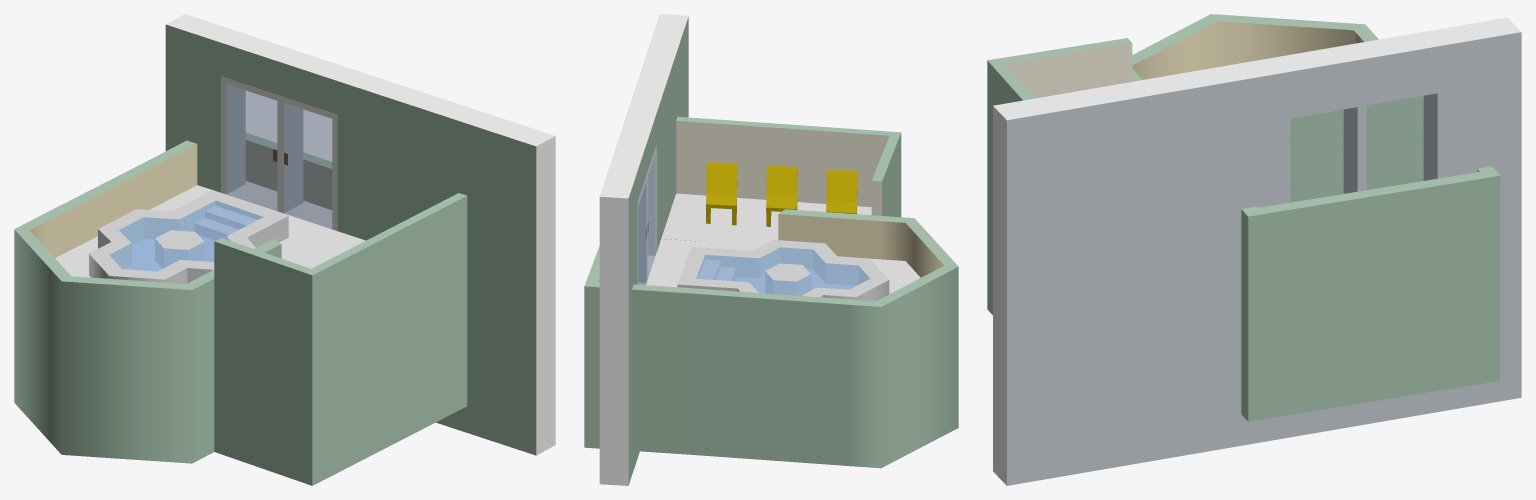
File: Spa_tilted.gltf
3 renders of one model, left to right at view 1: azimuth 30°, elevation 25°; view 2: azimuth 150°, elevation 25°; view 3: azimuth 270°, elevation 25°, orthographic. The views are drawn at different scales.
Visible parts, largest first — view 1: Mesh7 SPA1 Model, Mesh8 SPA1 Model; view 2: Mesh7 SPA1 Model, Mesh8 SPA1 Model, Mesh1 Group1 SPA1 Model, Mesh4 Group2 SPA1 Model; view 3: Mesh8 SPA1 Model, Mesh7 SPA1 Model.
Boxes of the visible parts, <box> form: Mesh7 SPA1 Model: <box>14,132,467,485</box>; Mesh8 SPA1 Model: <box>165,14,555,455</box>; Mesh7 SPA1 Model: <box>584,116,958,468</box>; Mesh8 SPA1 Model: <box>599,14,688,485</box>; Mesh1 Group1 SPA1 Model: <box>706,162,737,225</box>; Mesh4 Group2 SPA1 Model: <box>766,165,797,226</box>; Mesh8 SPA1 Model: <box>993,17,1521,485</box>; Mesh7 SPA1 Model: <box>987,14,1500,421</box>.
Bounding box in the file's own units: 1030 × 746 × 988.
